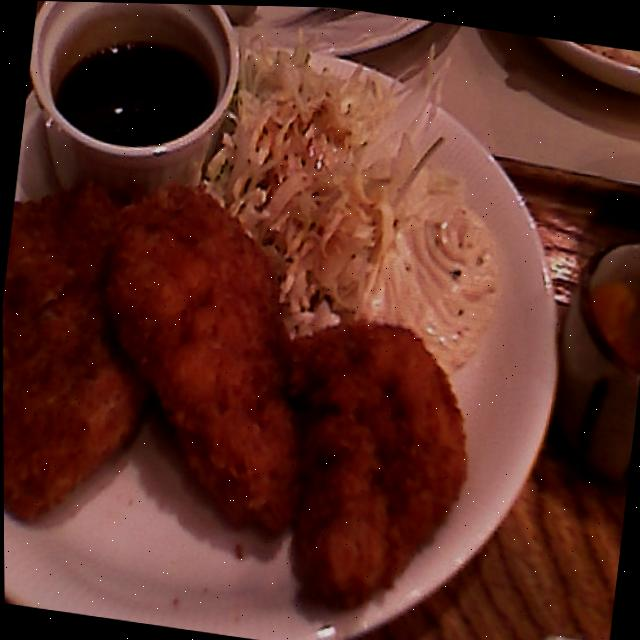牛肉菜式: (1, 159, 503, 634)
